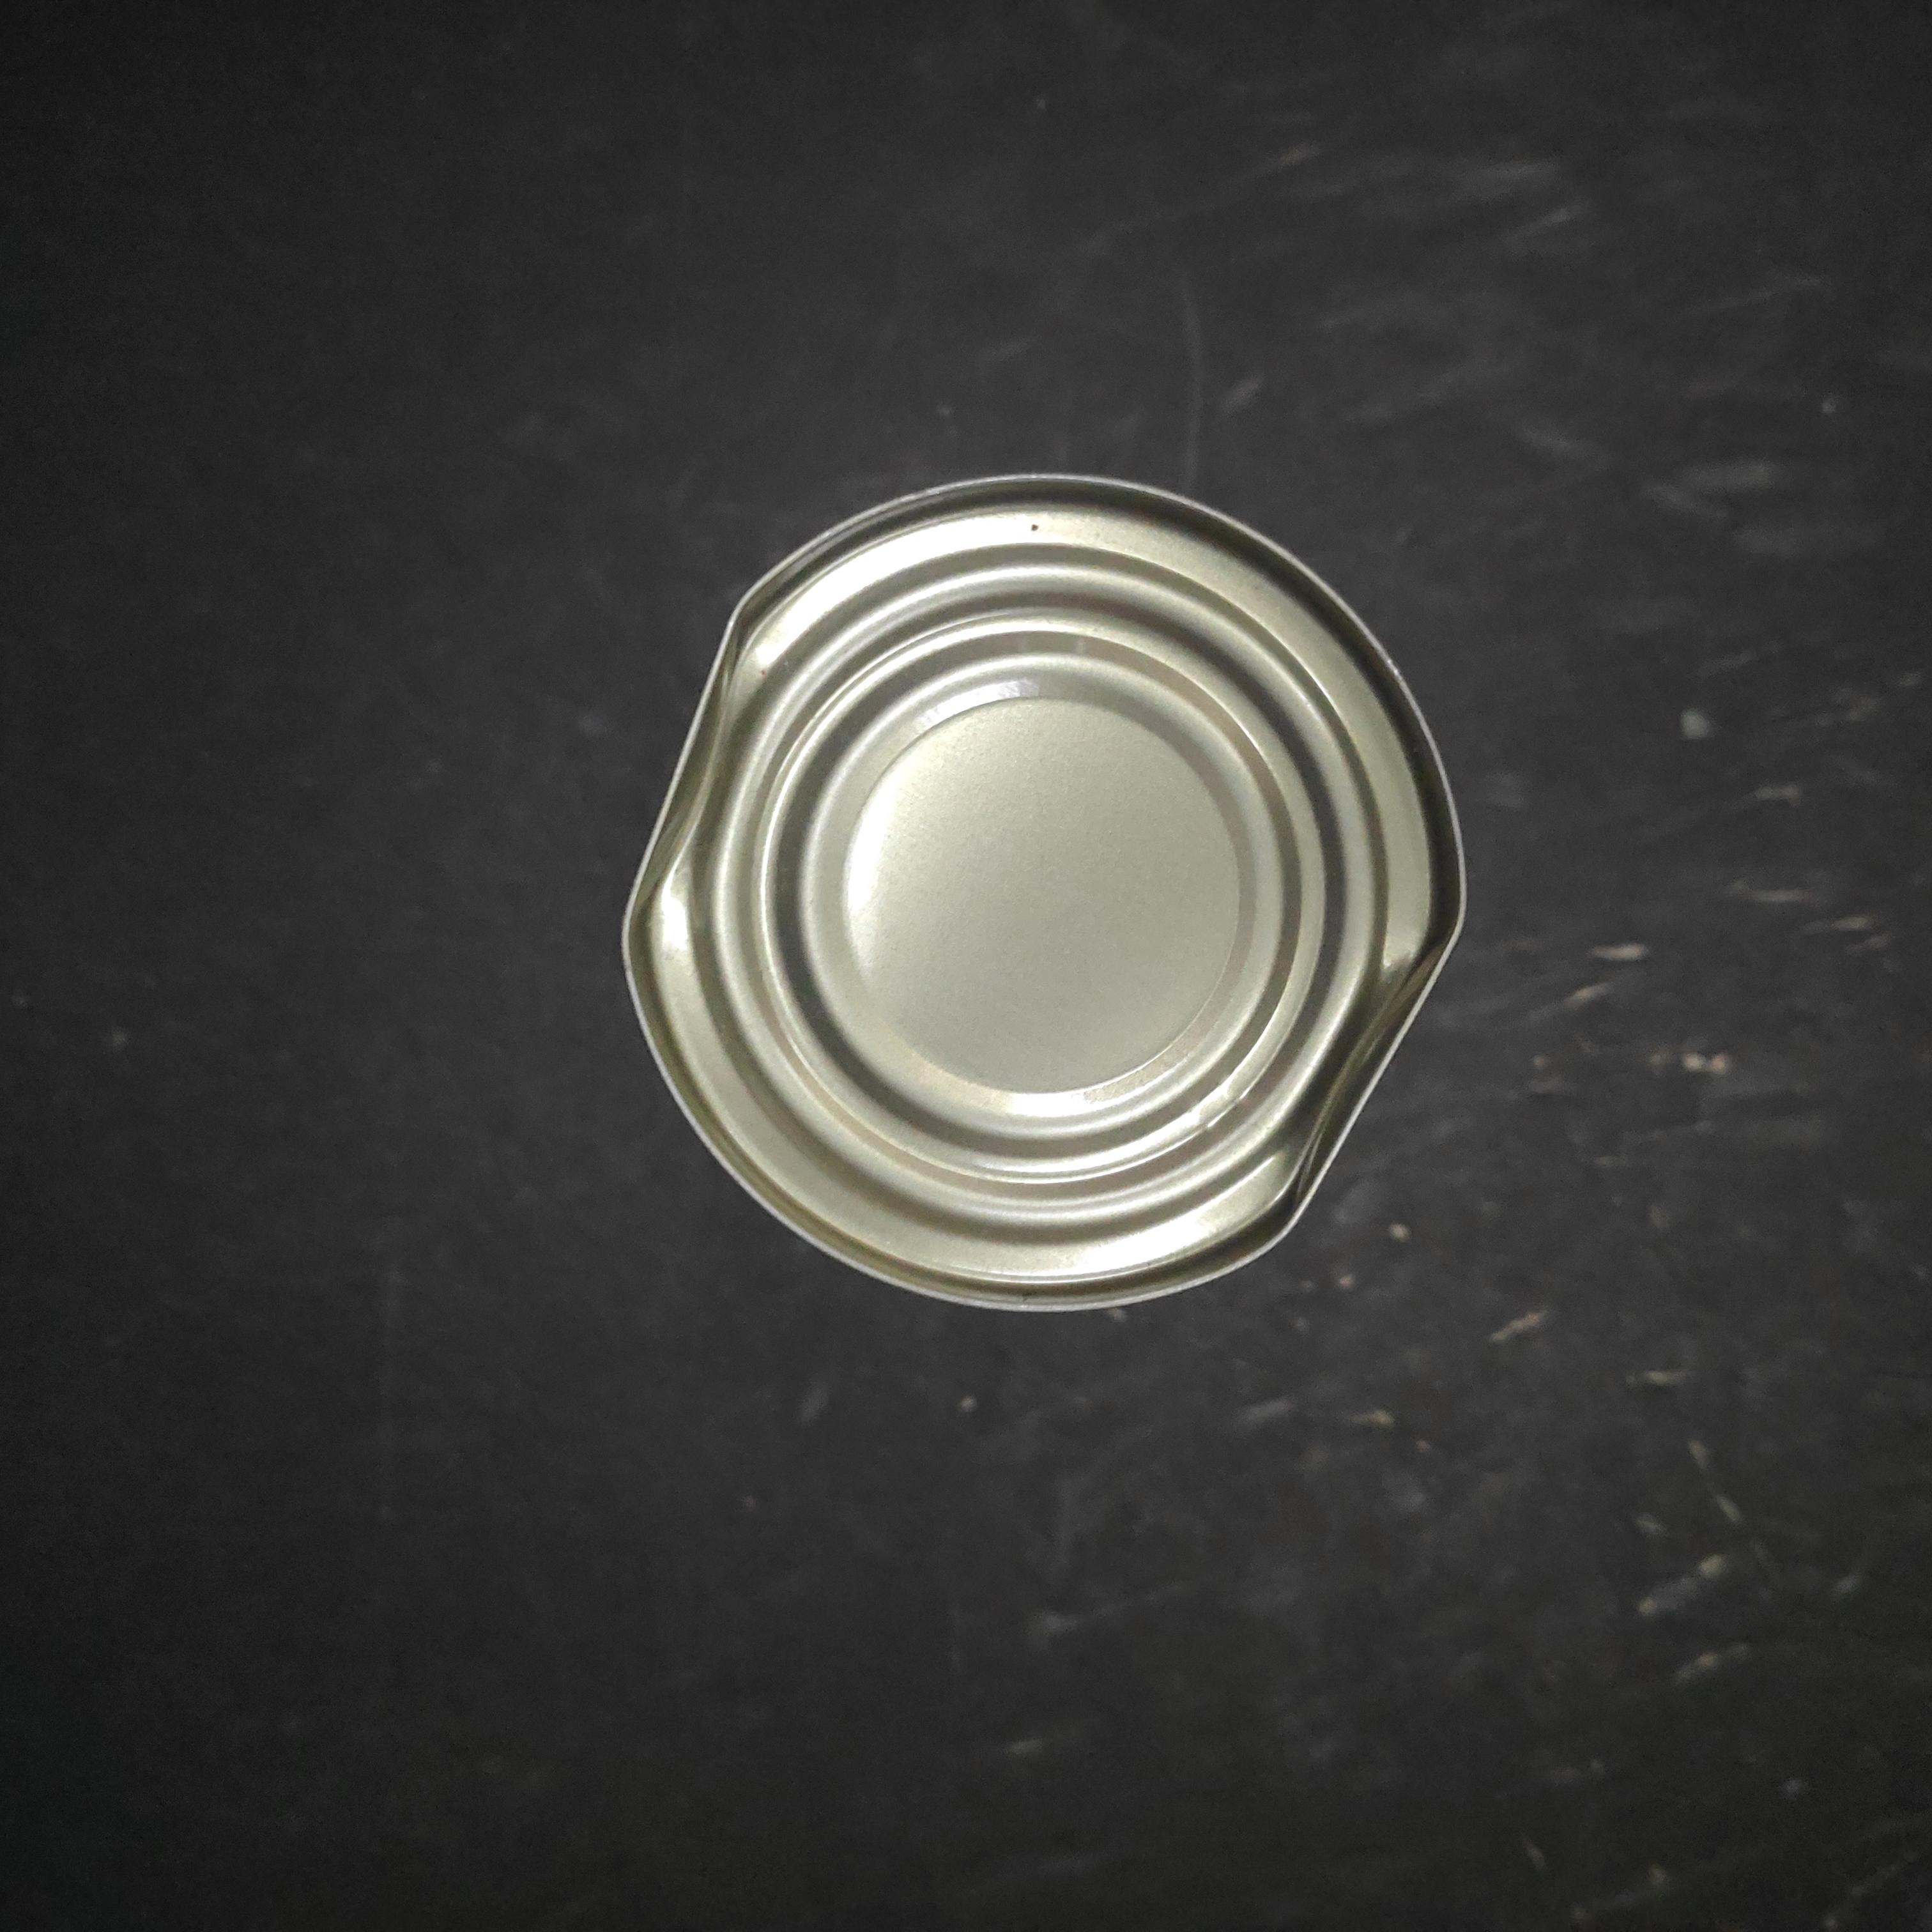Minor Defect: (602, 448, 1474, 1329)
